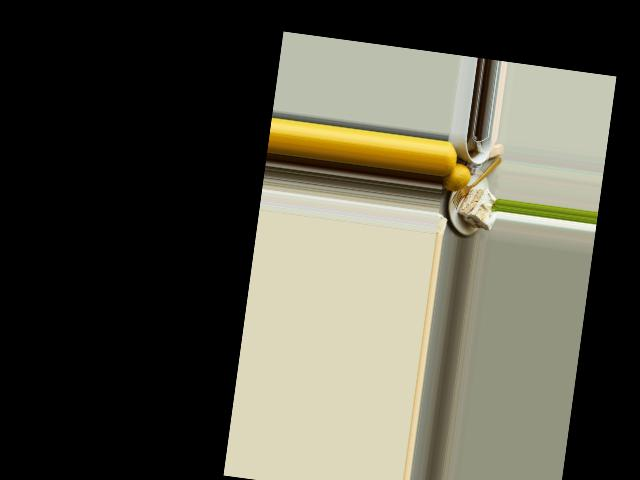lemon: (442, 140, 459, 178)
